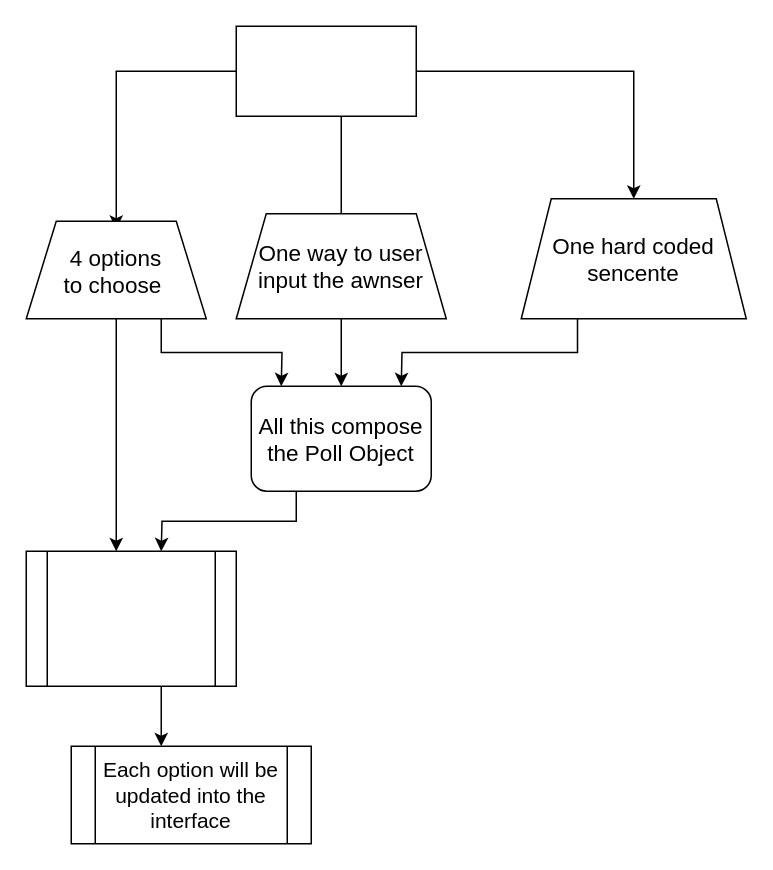
The diagram is 773 pixels wide and 870 high, and some of its shapes have lost their labels. The shapes that lost their labels are listed below. From the top down, each one's box as (x1, y1, x2, y2) in pixels, then its label:
(235, 25, 416, 116): Make the interface
(25, 550, 236, 686): Every options entered will increase its index value by 1
